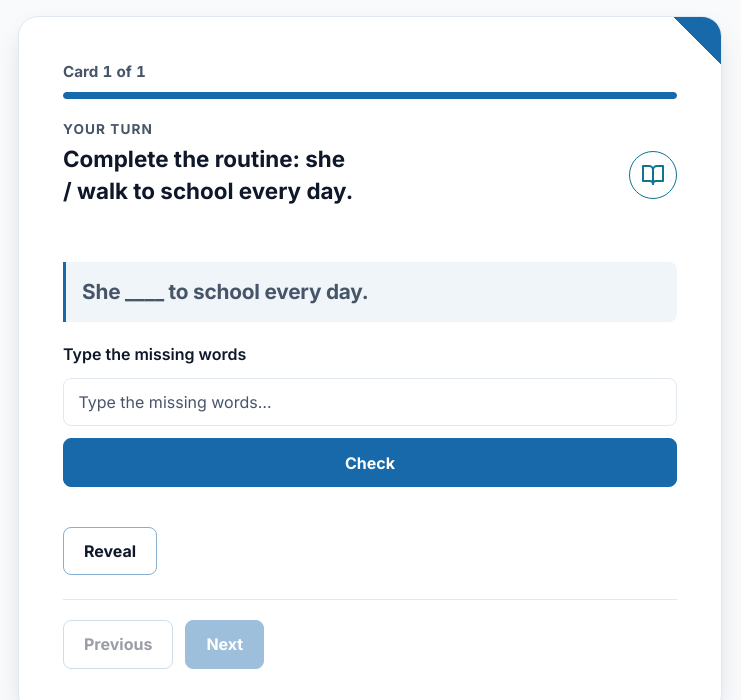
Test: VerbTensesPracticeClient › mantiene el contexto libro fuera del DOM hasta pulsar el botón cyan
Click the button named "Show context hint". click: (653, 175)
box: [629, 150, 677, 199]
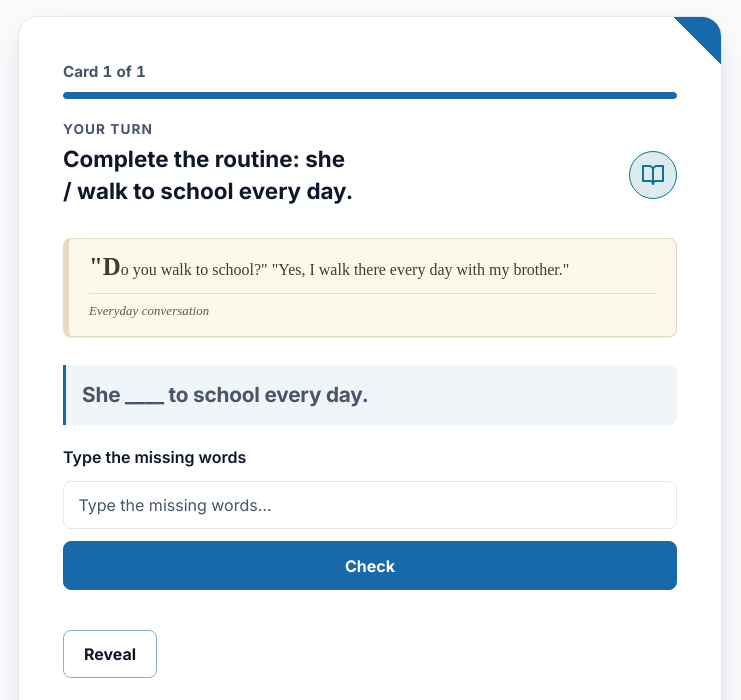
Check: the element with class "book-page" is shown, box [63, 238, 677, 337]
Check: the text "Everyday conversation" is shown, box [89, 293, 656, 322]
Click the button named "Hide context hint". click: (653, 175)
box: [629, 150, 677, 199]
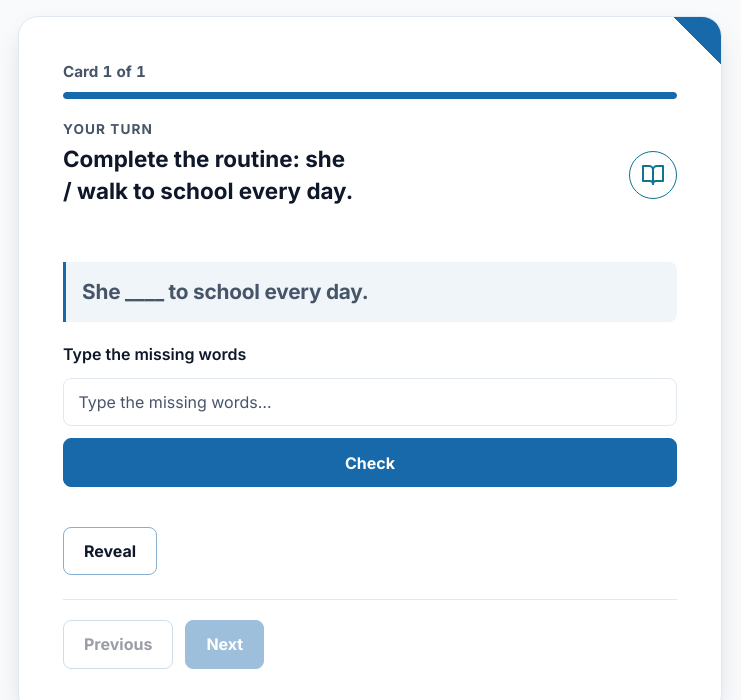
Check: the element with class "book-page" is gone
